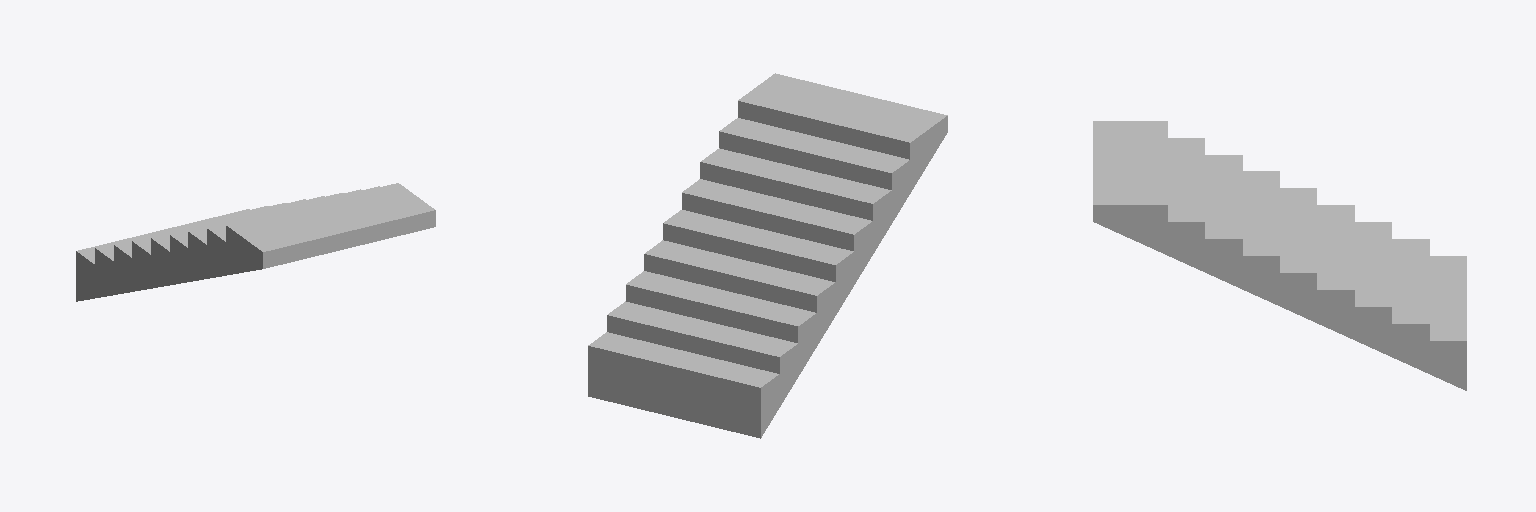
Rendered from Stairs (87).obj.
3 views of the same model, side by side, from view 1: azimuth 30°, elevation 25°; view 2: azimuth 150°, elevation 25°; view 3: azimuth 270°, elevation 25° (orthographic).
Parts seen in each view (by area): view 1: Stairs (87); view 2: Stairs (87); view 3: Stairs (87).
Part boxes in pixels (x1,y1,x2,y2): Stairs (87): (76, 183, 435, 301); Stairs (87): (588, 73, 947, 438); Stairs (87): (1093, 121, 1466, 390).
Size of the model in its own units: 2.67 by 2.75 by 5.